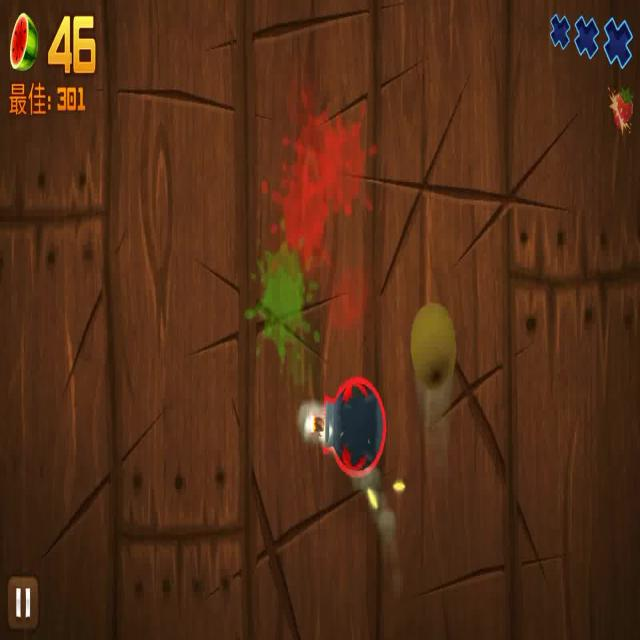bomb: (305, 378, 387, 482)
fruit: (410, 304, 458, 399)
